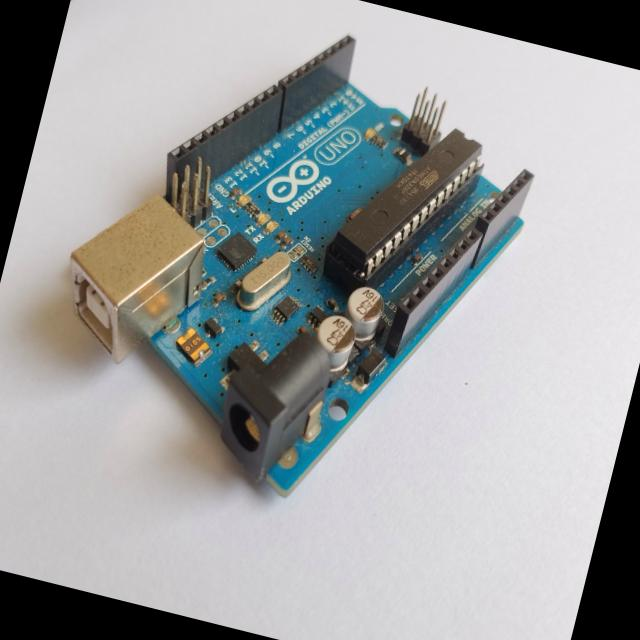arduino: (16, 0, 585, 561)
